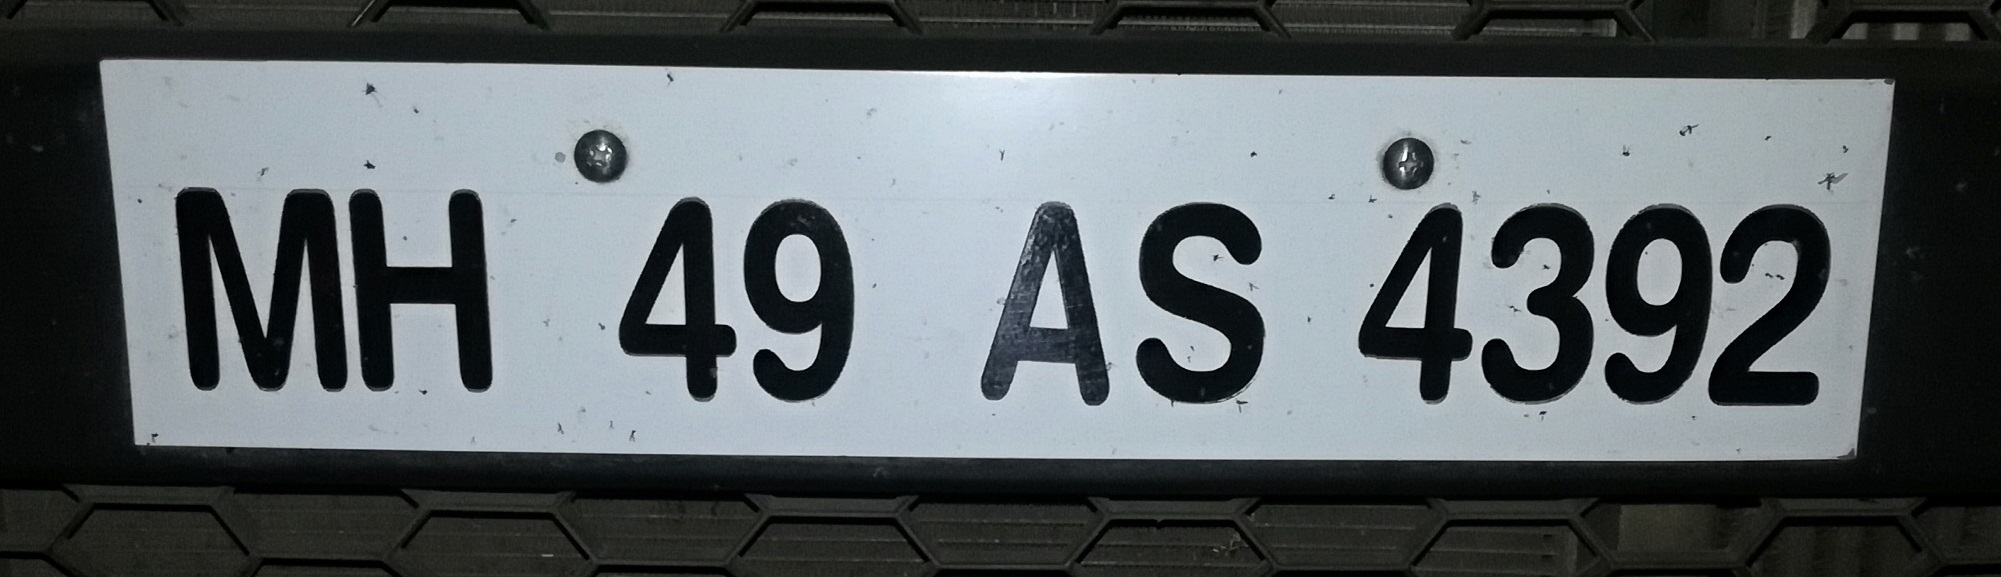numberplate: (97, 53, 1903, 462)
